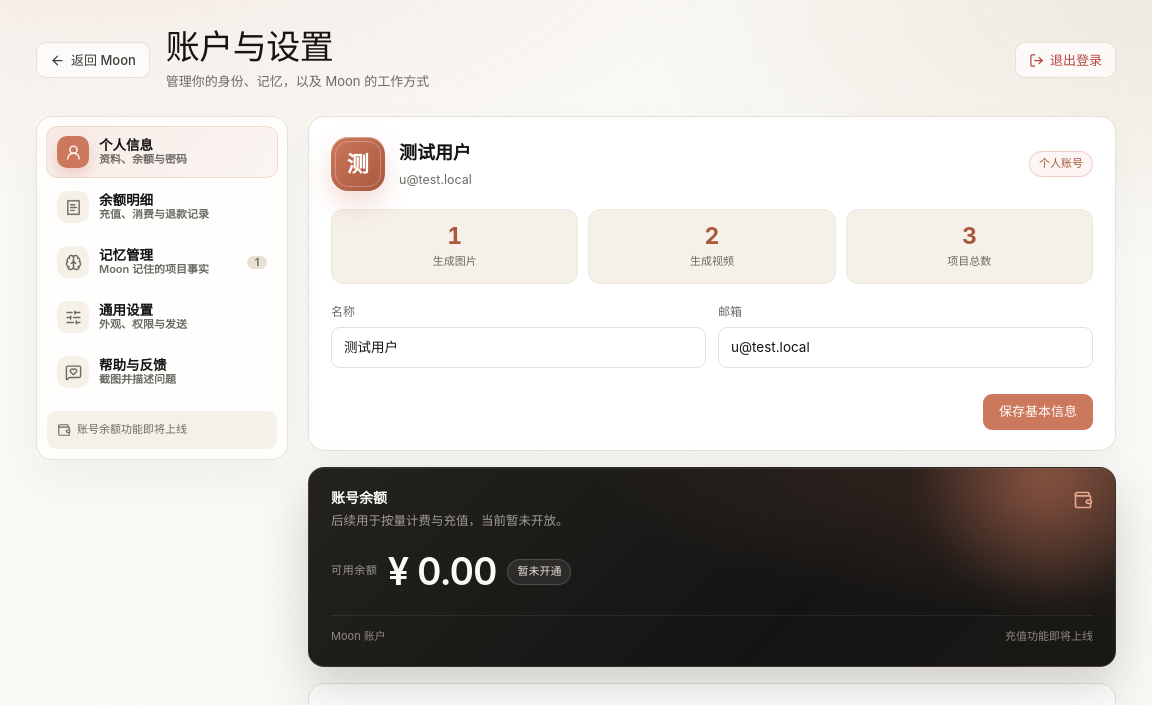
AccountPage 菜单与记忆管理 › 展示全局记忆与记忆管理开关
Check: the heading "测试用户" is shown, box x1=399 y1=142 x2=471 y2=163
Click the button "记忆管理 Moon 记住的项目事实 1" at (162, 262), box x1=46 y1=236 x2=278 y2=288
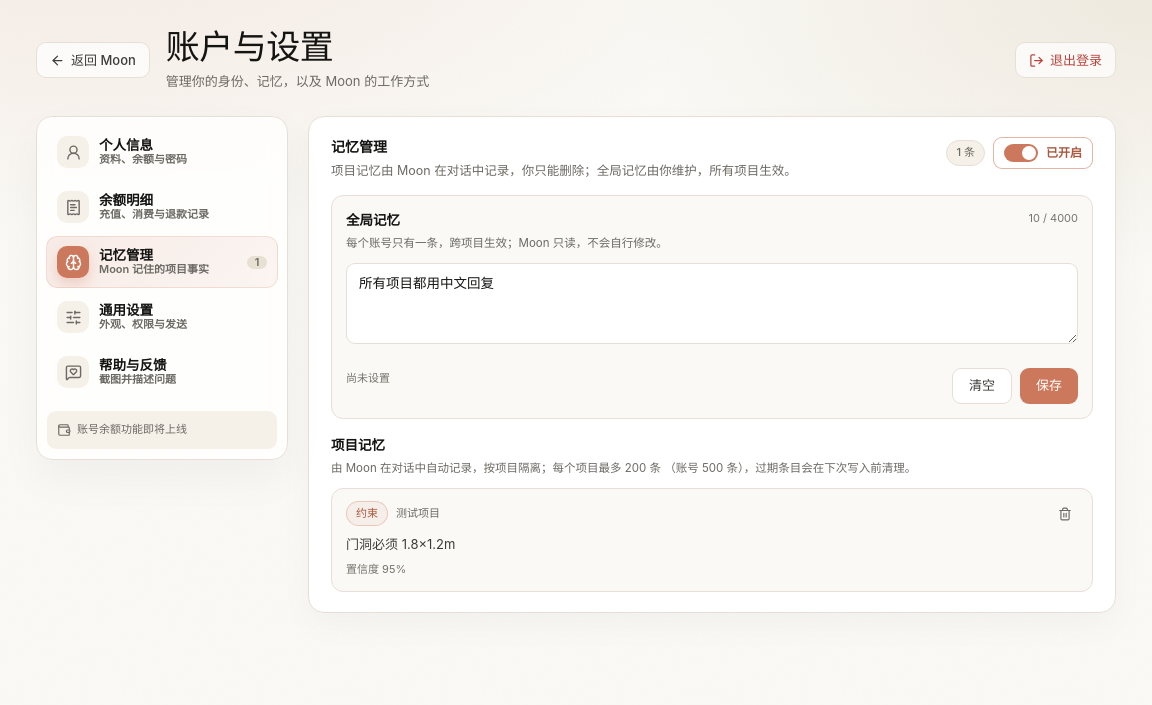
Check: the text "门洞必须 1.8×1.2m" is shown, box x1=346 y1=536 x2=455 y2=552
Check: the heading "全局记忆" is shown, box x1=346 y1=212 x2=400 y2=228
Check: the text box showing "所有项目都用中文回复" is shown, box x1=346 y1=263 x2=1078 y2=344
